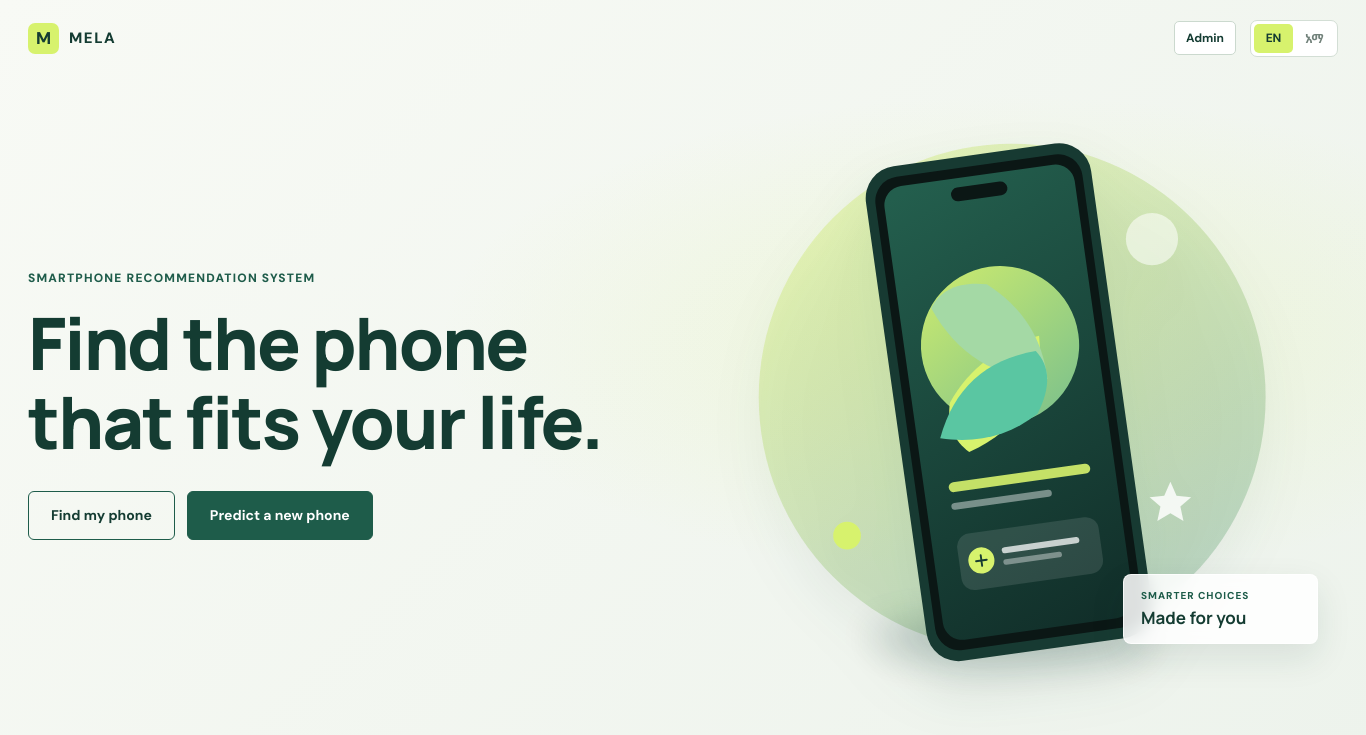
Test: admin signup checks that both passwords match
Click the button "Admin": (1205, 38) [1174,21,1236,55]
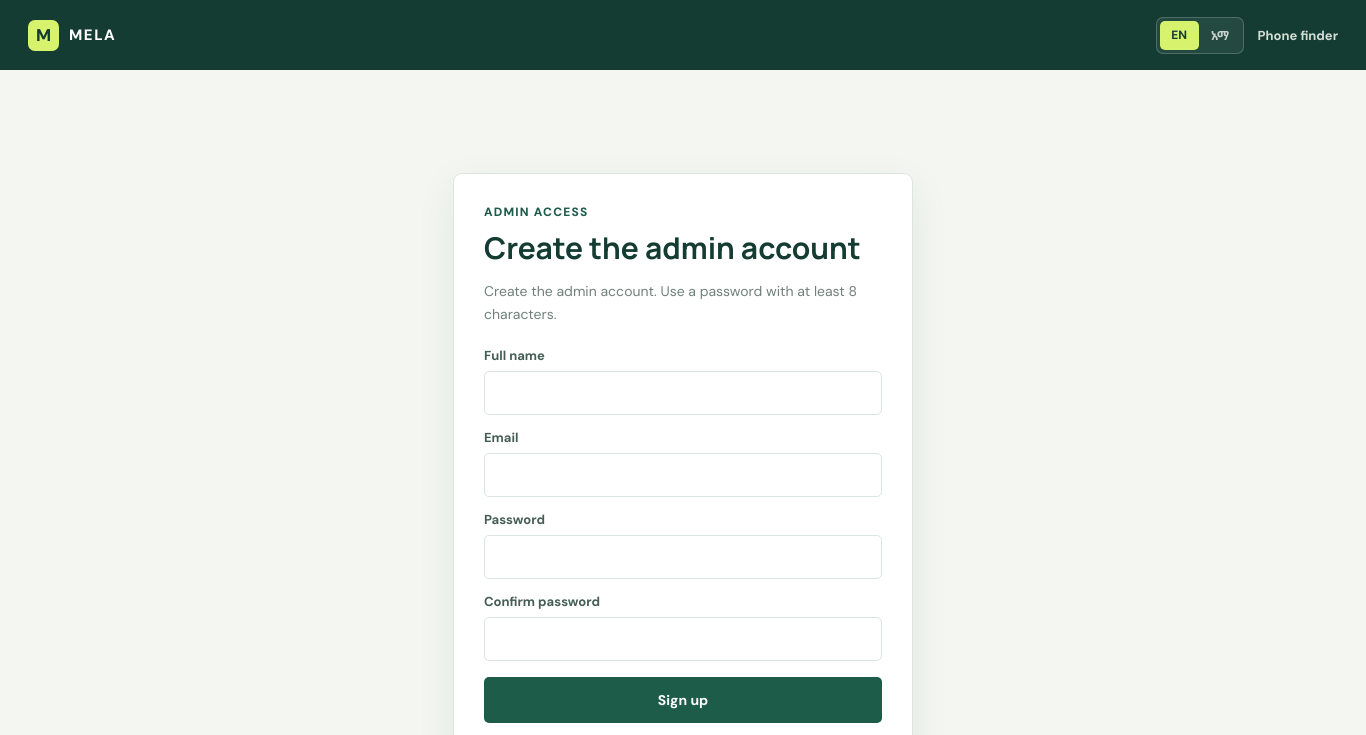
expect the heading "Create the admin account" is shown: met, box [484,230,882,266]
In the field labelled "Full name": (683, 393) [484,371,882,415], type "Catalog Admin"
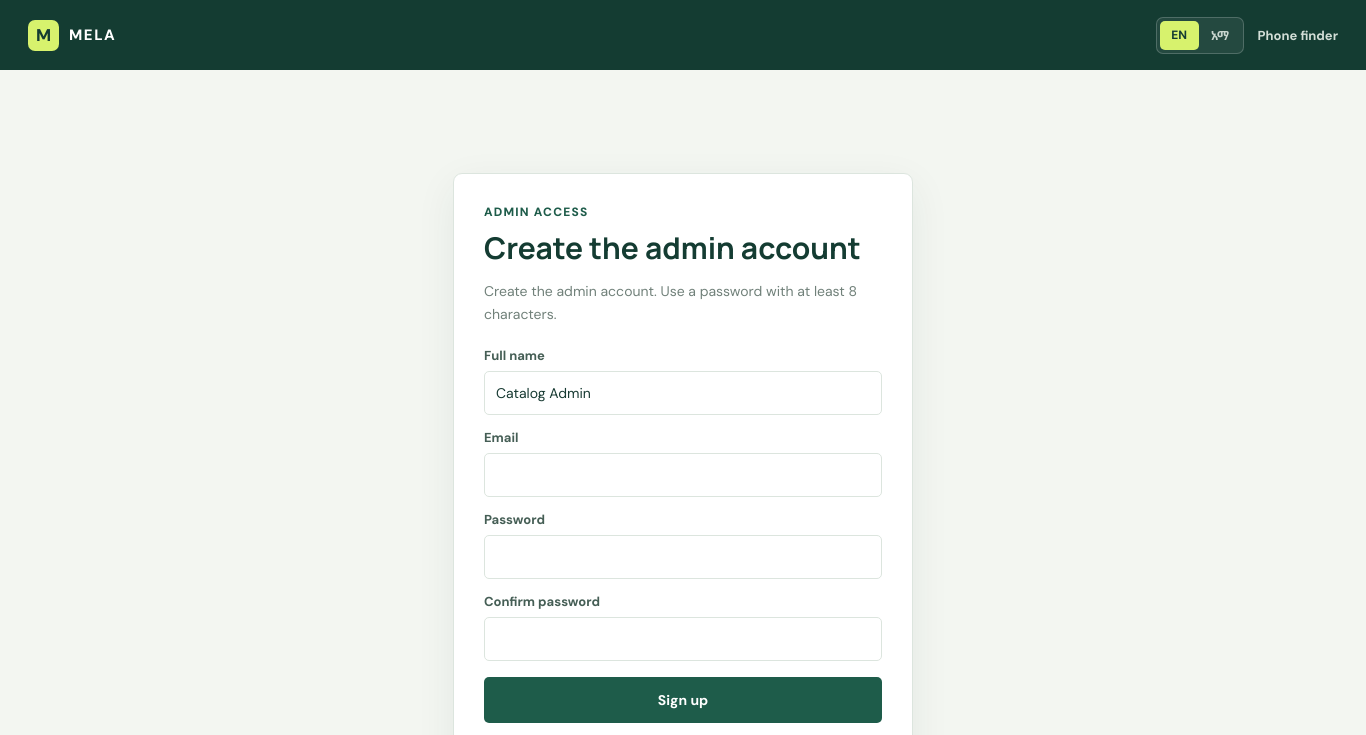
In the field labelled "Email": (683, 475) [484,453,882,497], type "admin@example.com"
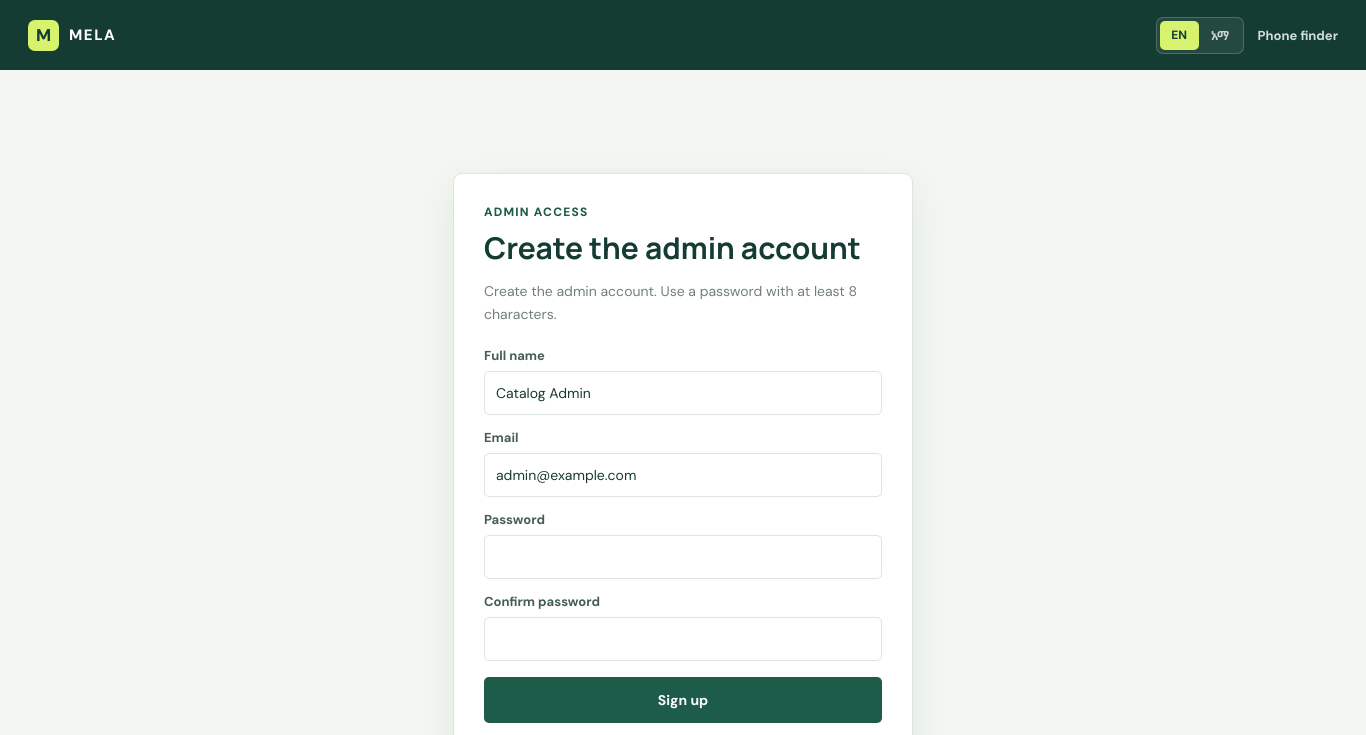
In the password field labelled "Password": (683, 557) [484,535,882,579], type "strong-admin-password"
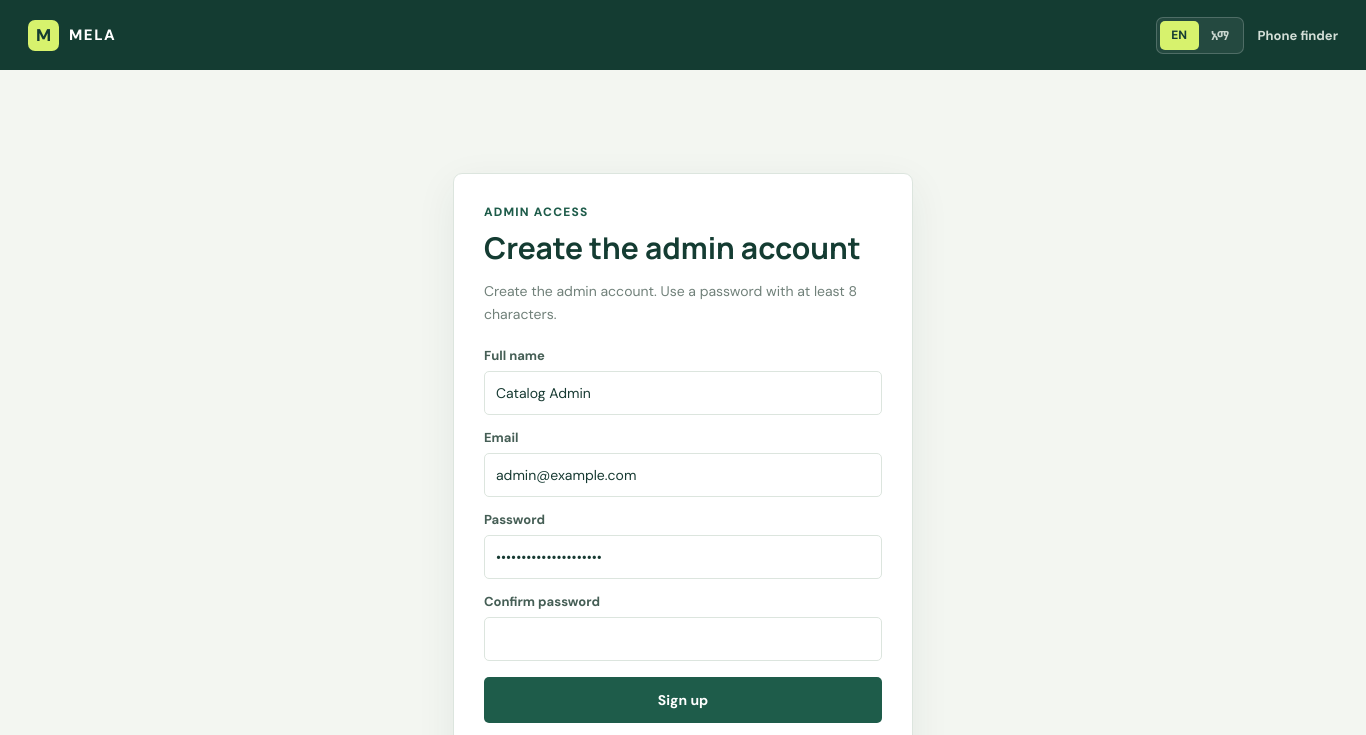
In the password field labelled "Confirm password": (683, 639) [484,617,882,661], type "a-different-password"
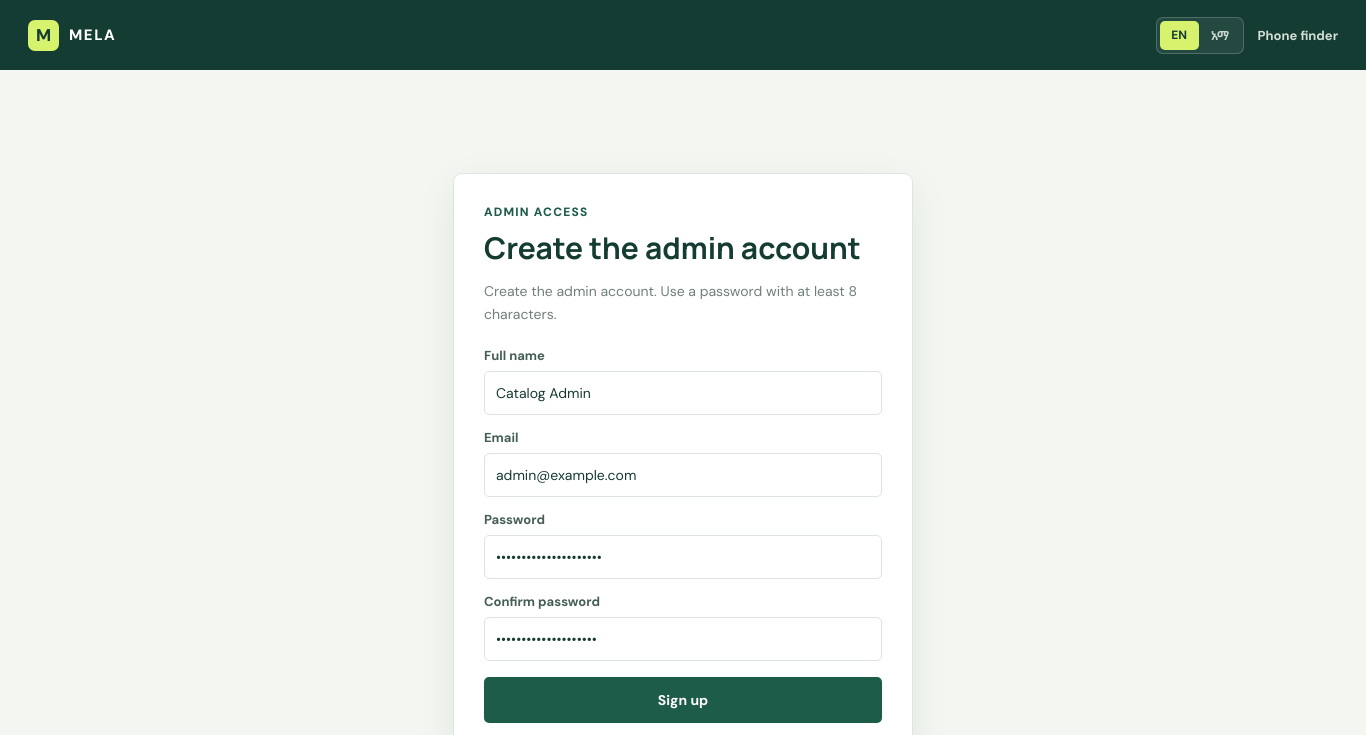
Click the button "Sign up": (683, 700) [484,677,882,723]
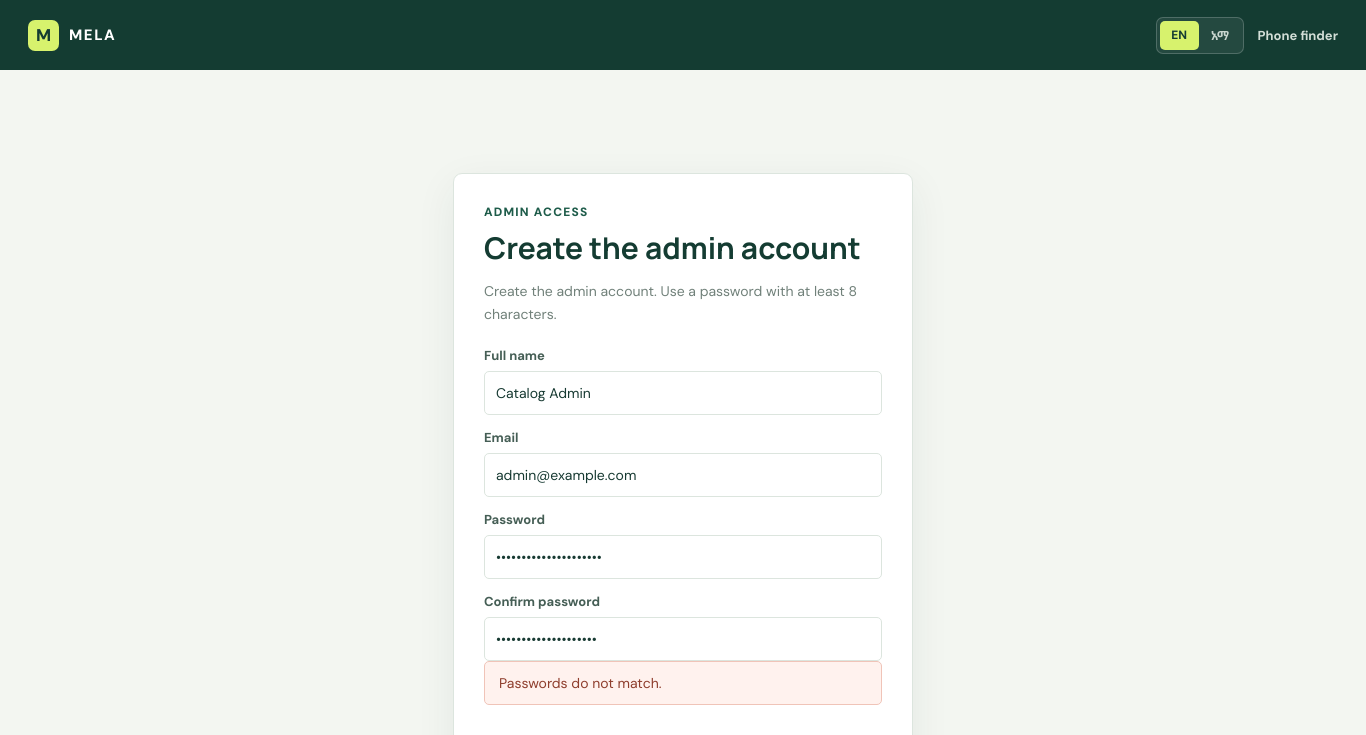
expect the message reads "Passwords do not match.": met, box [499,674,662,692]
